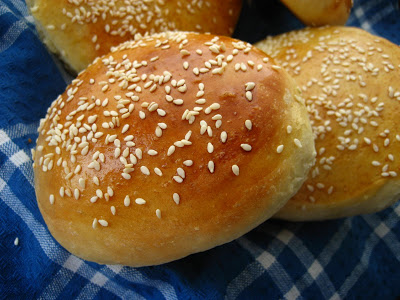hamburger_buns: (36, 28, 310, 277), (239, 25, 400, 230)
